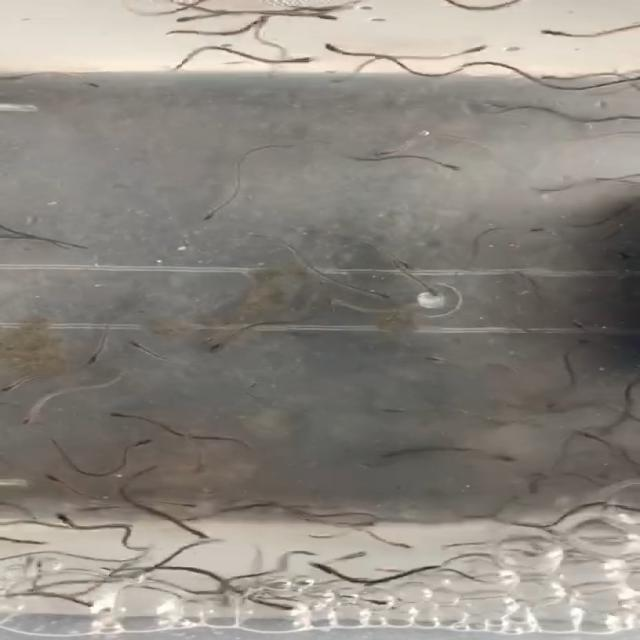active_glass_eel: (199, 334, 238, 358), (256, 599, 310, 615), (364, 534, 415, 550), (373, 141, 418, 157), (526, 221, 570, 236), (14, 406, 44, 428), (51, 509, 83, 529), (197, 203, 226, 225), (35, 470, 72, 487), (296, 561, 337, 576), (418, 348, 452, 366), (571, 426, 609, 442), (252, 9, 282, 29), (305, 10, 342, 26), (180, 528, 222, 541), (336, 549, 372, 564), (531, 27, 572, 40), (561, 318, 593, 334), (455, 44, 494, 57), (390, 254, 415, 274), (101, 410, 142, 422), (319, 40, 346, 58), (122, 436, 159, 449), (68, 74, 98, 90), (0, 378, 32, 393), (163, 498, 205, 509), (84, 346, 107, 366), (532, 71, 573, 82), (417, 280, 442, 298), (176, 12, 213, 24), (124, 335, 150, 352), (364, 290, 398, 302), (434, 157, 463, 170), (278, 55, 318, 64)
